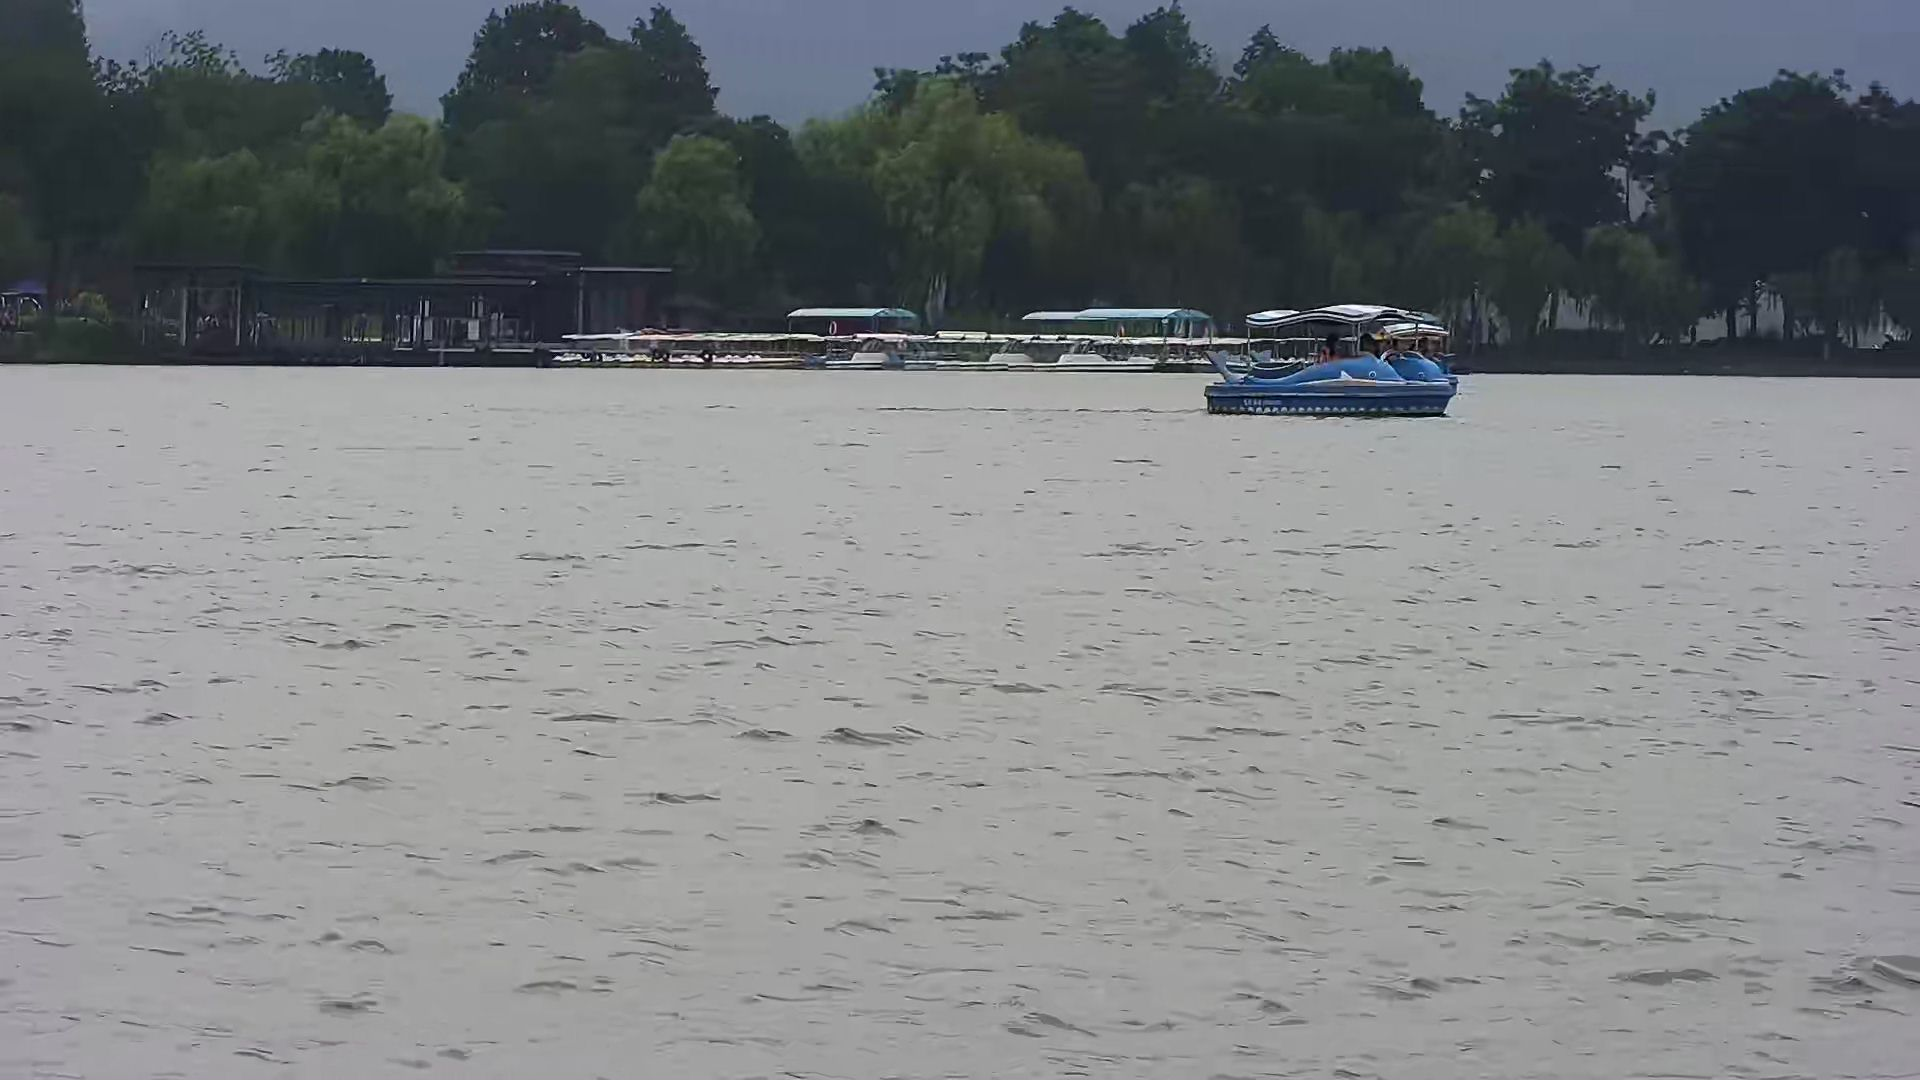boat: (1199, 294, 1458, 418)
